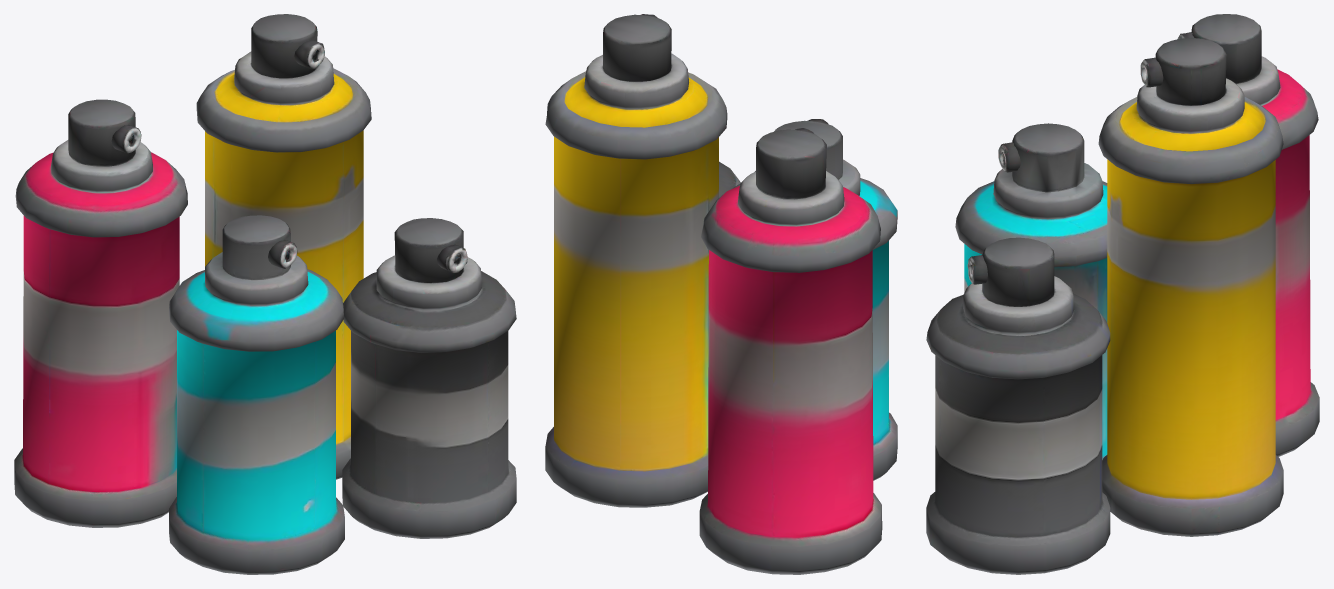
Rendered from paint-cans.glb.
The picture shows the model from 3 angles, left to right: view 1: azimuth 30°, elevation 25°; view 2: azimuth 150°, elevation 25°; view 3: azimuth 270°, elevation 25°; orthographic projection. The views are drawn at different scales.
Visible parts, largest first — view 1: tripo_node_b31fce13-05fc-4e0e-8f37-89341a324ee0; view 2: tripo_node_b31fce13-05fc-4e0e-8f37-89341a324ee0; view 3: tripo_node_b31fce13-05fc-4e0e-8f37-89341a324ee0.
Boxes of the visible parts, left/top/right/bottom form: tripo_node_b31fce13-05fc-4e0e-8f37-89341a324ee0: left=14, top=14, right=516, bottom=574; tripo_node_b31fce13-05fc-4e0e-8f37-89341a324ee0: left=545, top=14, right=897, bottom=574; tripo_node_b31fce13-05fc-4e0e-8f37-89341a324ee0: left=926, top=14, right=1319, bottom=574.
Bounding box in the file's own units: 0.9005 × 0.998 × 0.7677.
1 material, 1 textured.
